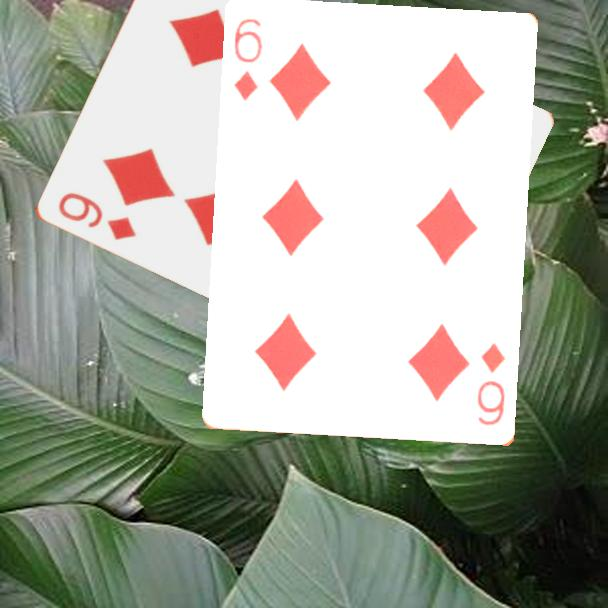d06: (474, 340, 509, 429), (231, 15, 266, 104)
d09: (54, 188, 138, 244)
